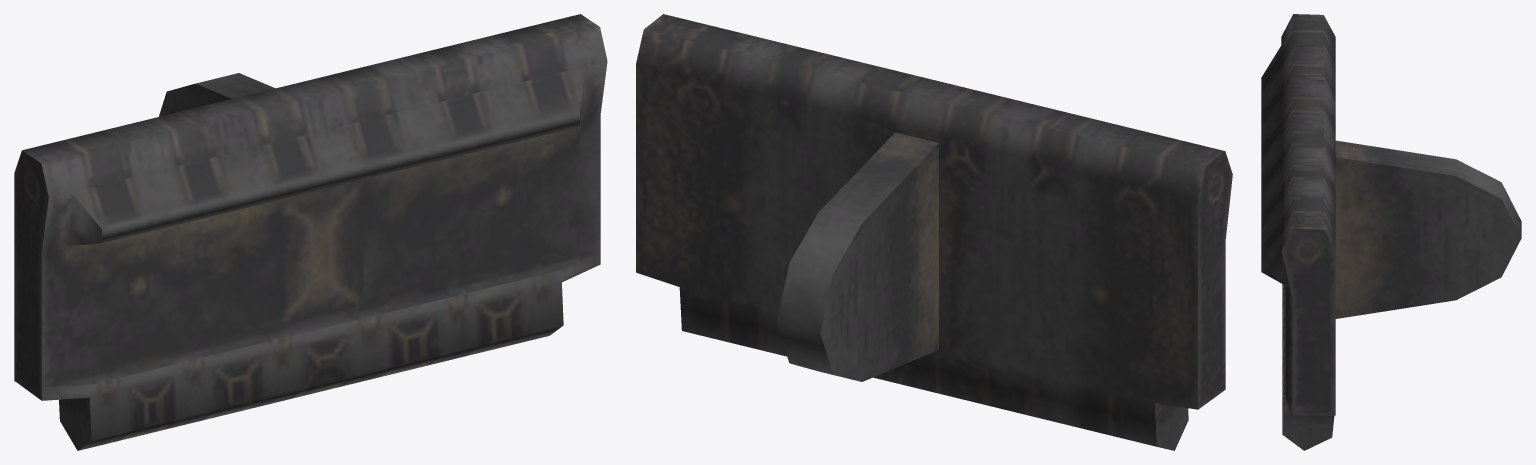
The picture shows the model from 3 angles, left to right: view 1: azimuth 30°, elevation 25°; view 2: azimuth 150°, elevation 25°; view 3: azimuth 270°, elevation 25°; orthographic projection. The views are drawn at different scales.
Parts seen in each view (by area): view 1: set_0_group_0; view 2: set_0_group_0; view 3: set_0_group_0.
Boxes of the visible parts, left/top/right/bottom form: set_0_group_0: left=14, top=14, right=607, bottom=450; set_0_group_0: left=636, top=14, right=1232, bottom=450; set_0_group_0: left=1261, top=14, right=1521, bottom=450.
Bounding box in the file's own units: 0.4 × 0.2076 × 0.205.
1 material, 1 textured.
